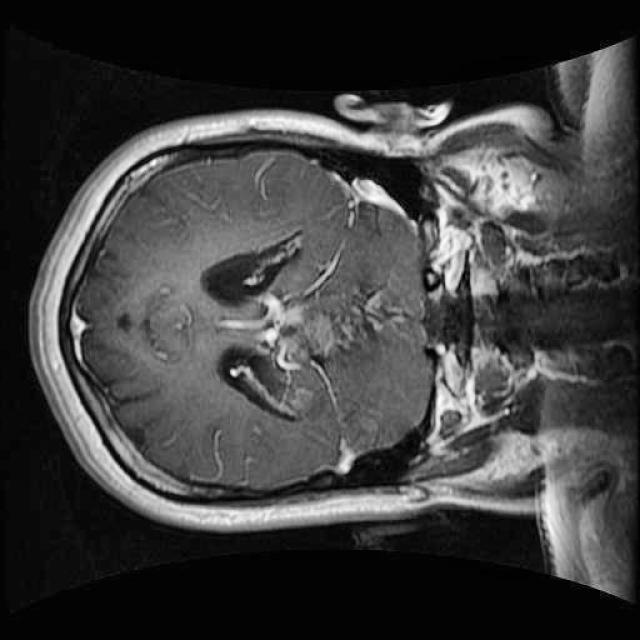Tumor: (249, 274, 429, 381)
